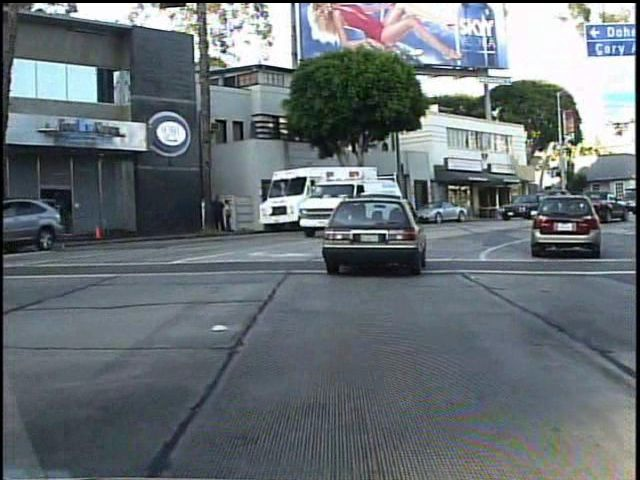person: (211, 193, 227, 234), (223, 197, 237, 234)
